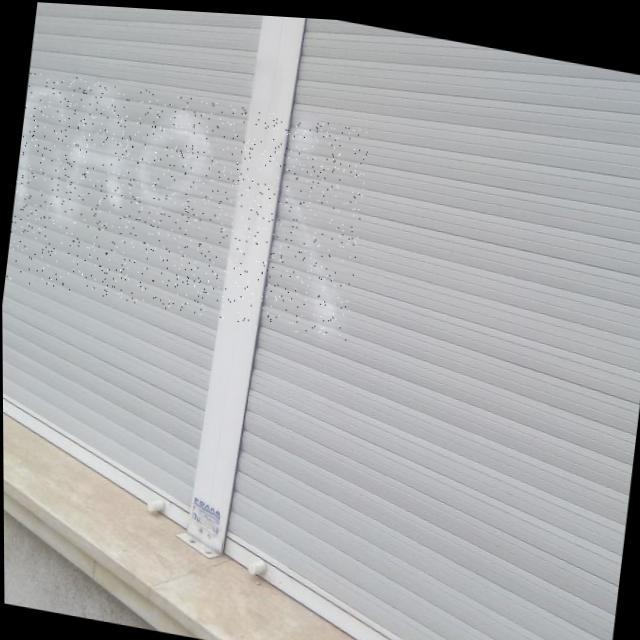-: (3, 66, 371, 338)
